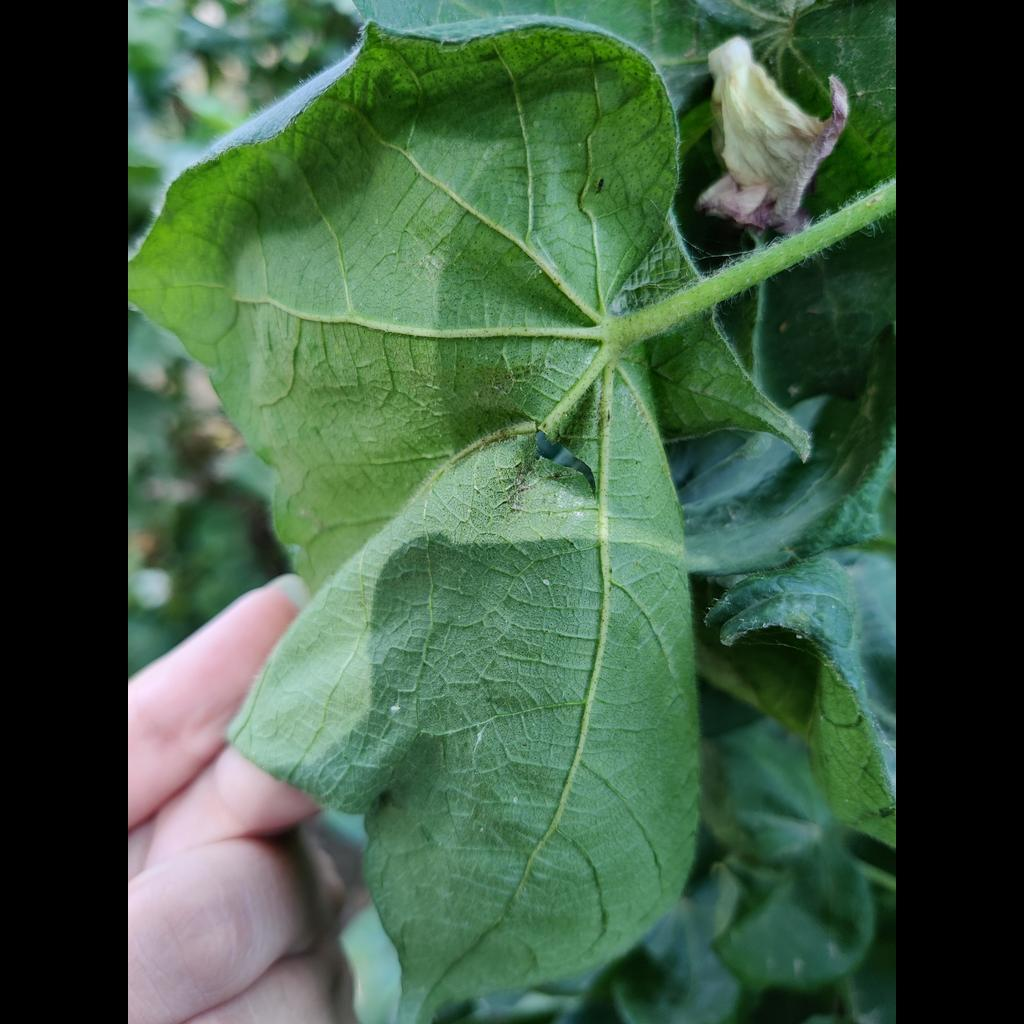nymph: (390, 705, 401, 712), (542, 579, 549, 586), (796, 634, 803, 640), (512, 797, 518, 804)
